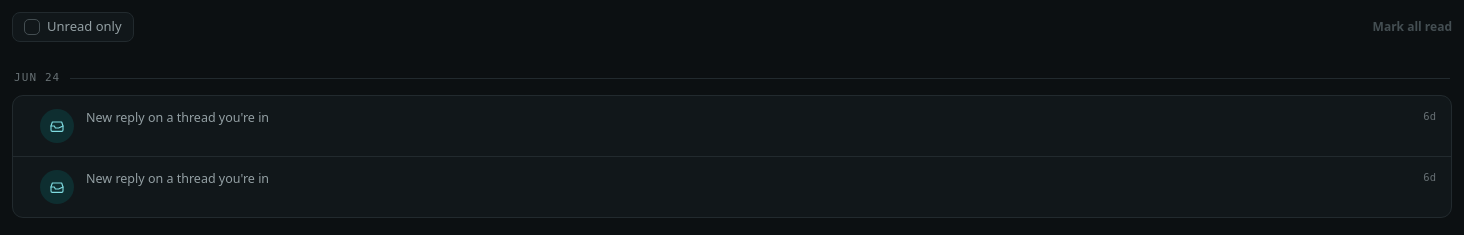
Test case: For-you inbox — manage unread (your-activity-inbox S-002) › AS-009: with the filter on and nothing unread, a 'No unread items' state shows
The image size is (1464, 235).
Expected: the button with test id "inbox-row-r1" is shown, [13,156,1451,216]
What coordinates should you click on to do the following:
click the button with test id "inbox-unread-toggle"
I would click on:
 (73, 27)
Its box is [12,12,134,42].
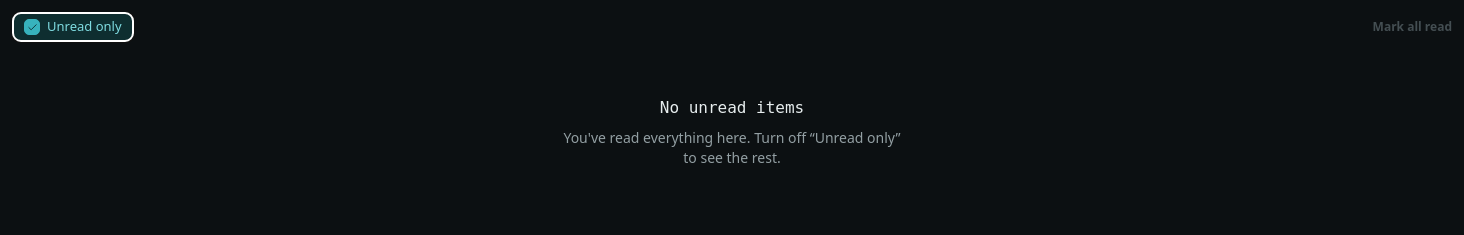
Expected: the text "No unread items" is shown, [660,96,804,120]
Expected: the element with test id "inbox-list" is gone
